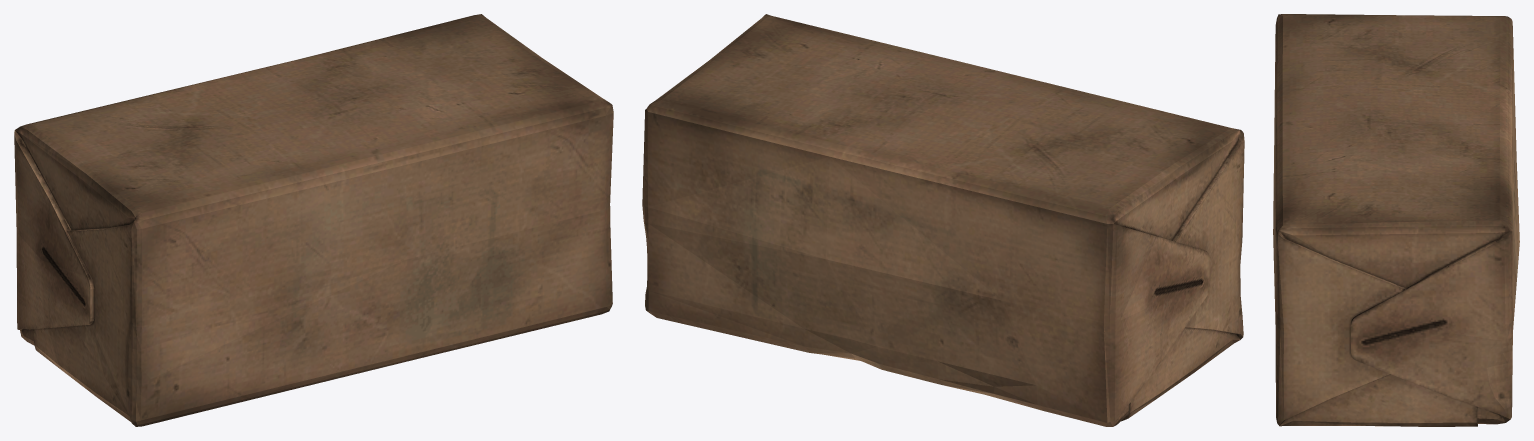
The picture shows the model from 3 angles, left to right: view 1: azimuth 30°, elevation 25°; view 2: azimuth 150°, elevation 25°; view 3: azimuth 270°, elevation 25°; orthographic projection. The views are drawn at different scales.
Visible parts, largest first — view 1: TW_64aceac0c4eda9354b0226b3_PZ_Import; view 2: TW_64aceac0c4eda9354b0226b3_PZ_Import; view 3: TW_64aceac0c4eda9354b0226b3_PZ_Import.
Part boxes in pixels (x1,y1,x2,y2): TW_64aceac0c4eda9354b0226b3_PZ_Import: (14, 14, 613, 426); TW_64aceac0c4eda9354b0226b3_PZ_Import: (642, 14, 1244, 426); TW_64aceac0c4eda9354b0226b3_PZ_Import: (1273, 14, 1519, 426).
Size of the model in its own units: 0.0602 by 0.0282 by 0.027.
1 material, 1 textured.
